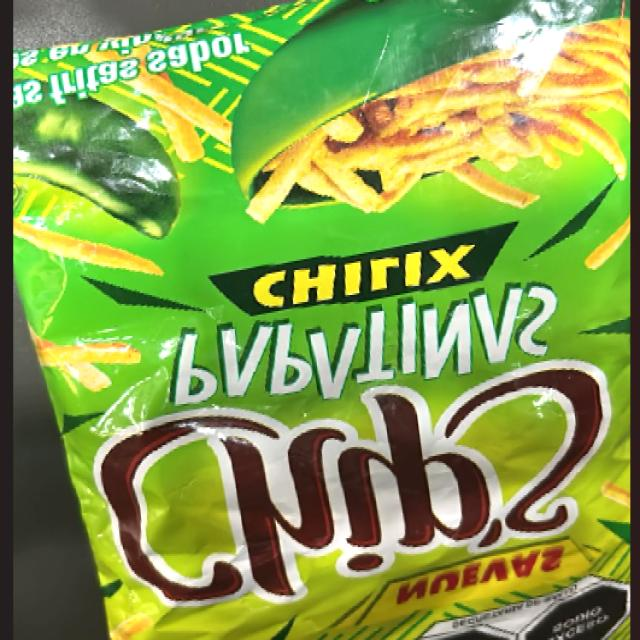chipsPapatinas: (99, 41, 627, 625)
